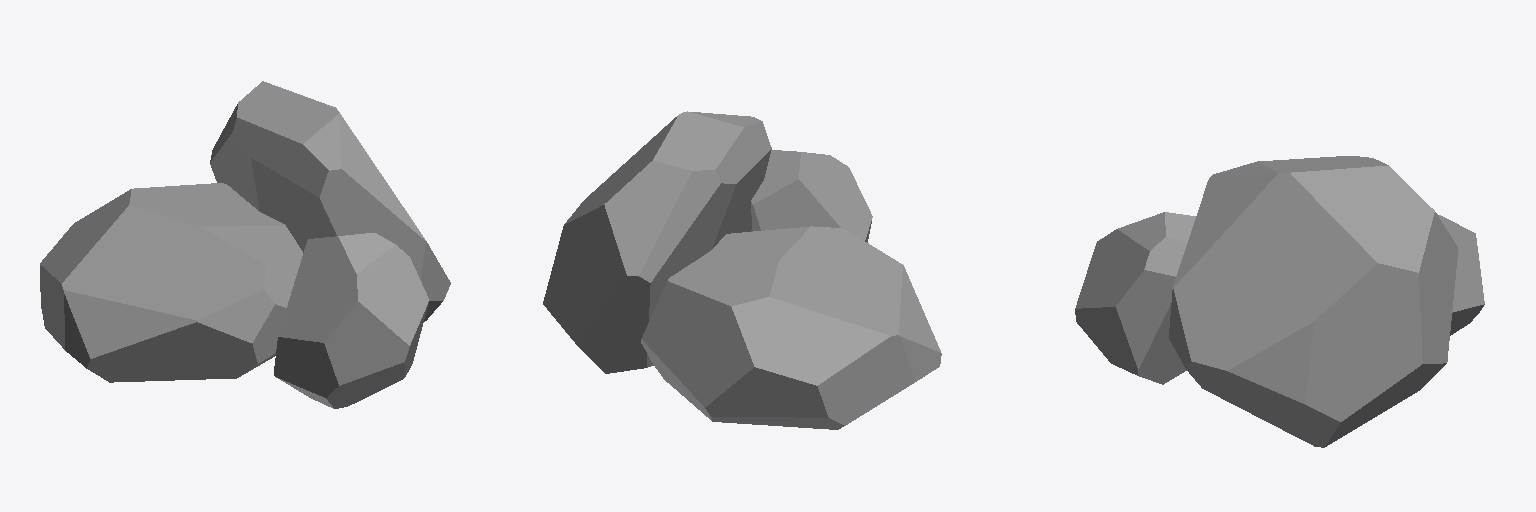
File: rock6.obj
3 renders of one model, left to right at view 1: azimuth 30°, elevation 25°; view 2: azimuth 150°, elevation 25°; view 3: azimuth 270°, elevation 25°, orthographic.
Visible parts, largest first — view 1: Rock_Type2_02_mesh_Cube.006; view 2: Rock_Type2_02_mesh_Cube.006; view 3: Rock_Type2_02_mesh_Cube.006.
Boxes of the visible parts, x1=… form: Rock_Type2_02_mesh_Cube.006: x1=40, y1=81, x2=450, y2=408; Rock_Type2_02_mesh_Cube.006: x1=543, y1=111, x2=941, y2=429; Rock_Type2_02_mesh_Cube.006: x1=1075, y1=156, x2=1484, y2=447.
Bounding box in the file's own units: 1.81 × 1.26 × 1.88.